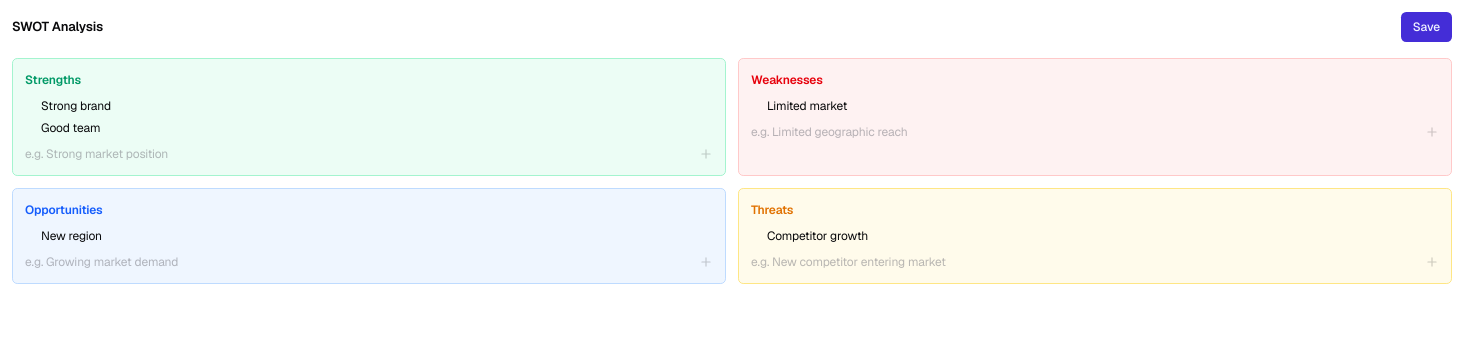
Test case: SwotEditor › shows error on save failure
Click the button "Save": coordinates (1426, 27) x1=1401 y1=12 x2=1452 y2=42
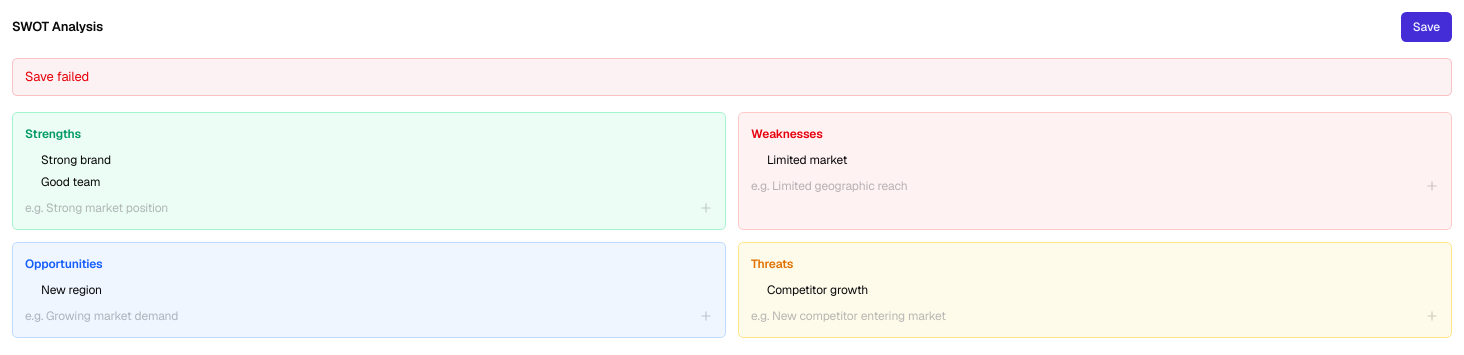
Check: the text "Save failed" is shown, box x1=12 y1=58 x2=1452 y2=96
